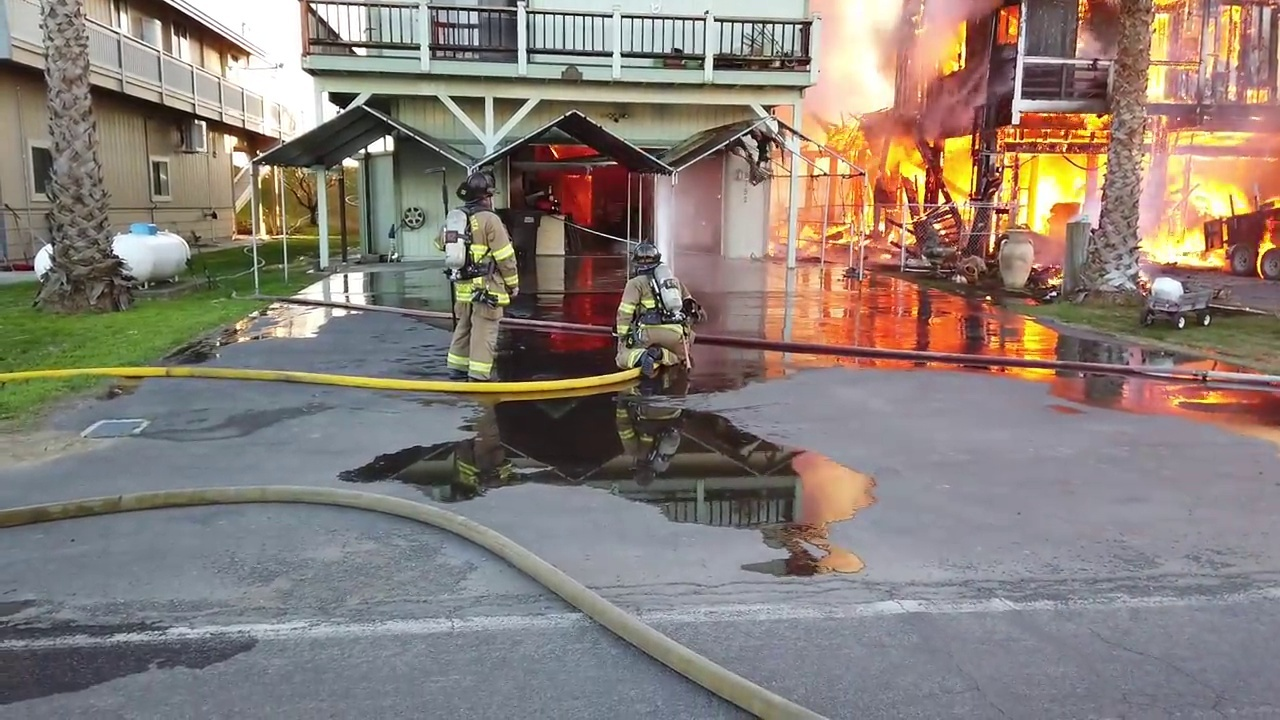fire: (771, 108, 1280, 275), (796, 1, 905, 122), (1148, 1, 1278, 99), (1022, 157, 1086, 229), (932, 11, 977, 81), (552, 175, 592, 223), (1066, 1, 1095, 59), (993, 1, 1025, 48), (548, 143, 599, 161), (1041, 261, 1067, 285)
smoke: (795, 1, 905, 122), (659, 171, 733, 261), (909, 2, 932, 85), (908, 79, 986, 101)
